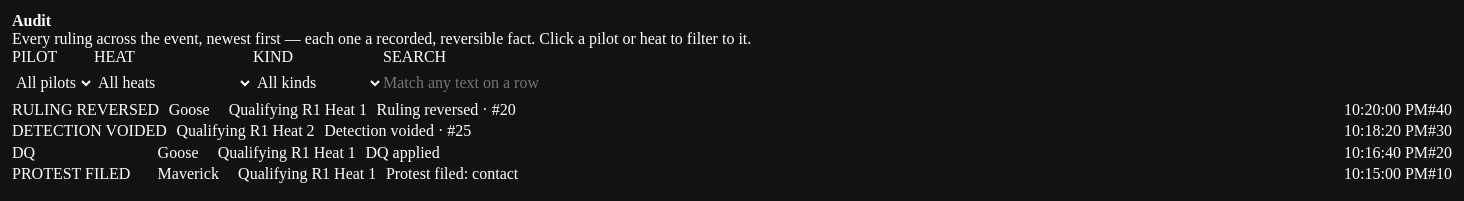
EventAudit — the event-wide audit page › filters by kind and by free text over the rendered row
The image size is (1464, 201).
Expected: the number of list items is 4, [12,100,1452,121]; [12,121,1452,142]; [12,142,1452,163]; [12,163,1452,184]
Select "DQ" in the dropdown named "Filter by kind" at (318, 83), box [253,66,383,100]
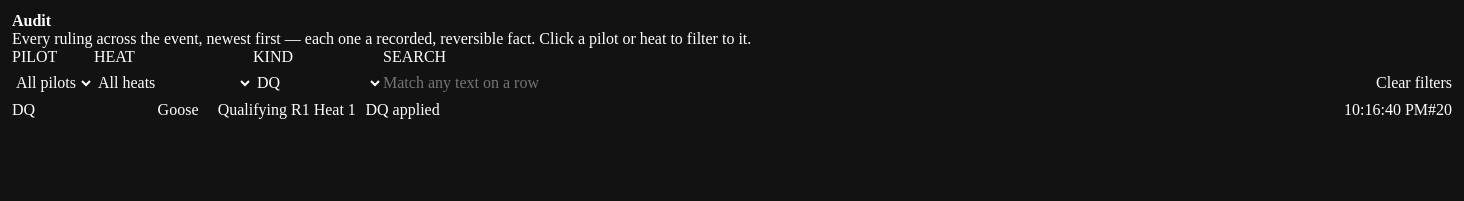
Expected: the list item shows "DQ applied", [366,101,440,118]
Result: the number of list items is 1 at [12,100,1452,121]
Select "All kinds" in the dropdown named "Filter by kind" at (318, 83), box [253,66,383,100]
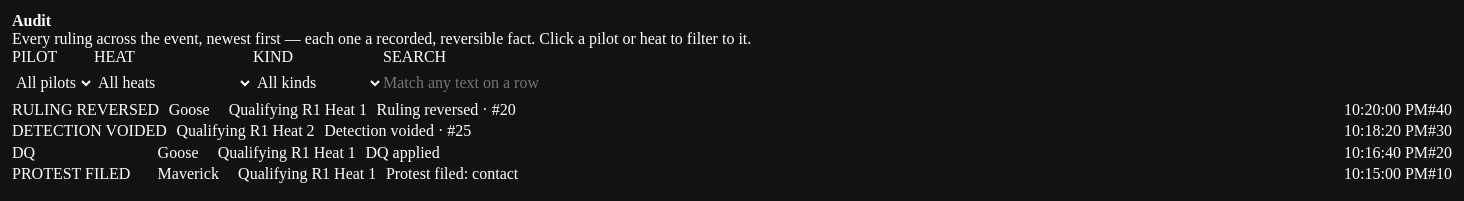
Note: Free text matches the RENDERED text — the resolved callsign, not the raw ref.
Type "maverick" into the search field named "Search audit entries" at (918, 83), box [383,66,1452,100]
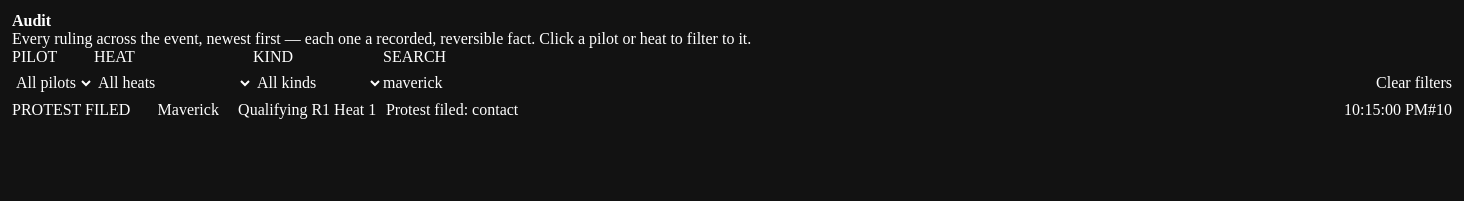
Result: the list item shows "Protest filed: contact" at [386,101,518,118]
Result: the number of list items is 1 at [12,100,1452,121]
Note: A raw ref must NOT match (nothing renders it).
Replace the text in the search field named "Search audit entries" with "maverick-4d9rp8" at (880, 83), box [383,66,1376,100]
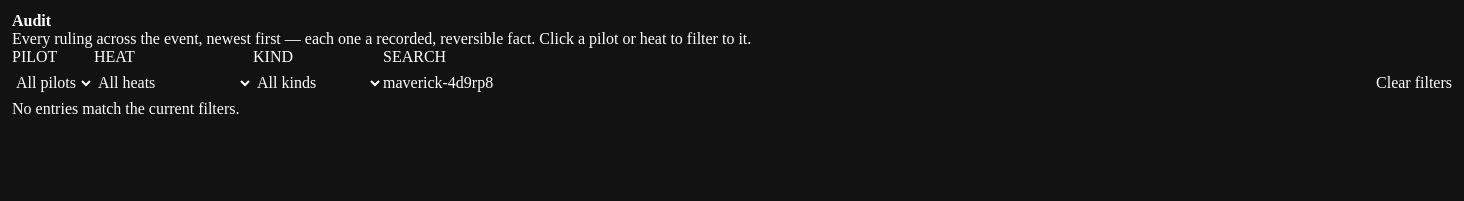
Result: the text "No entries match the current filters." is shown at [12,100,240,117]
